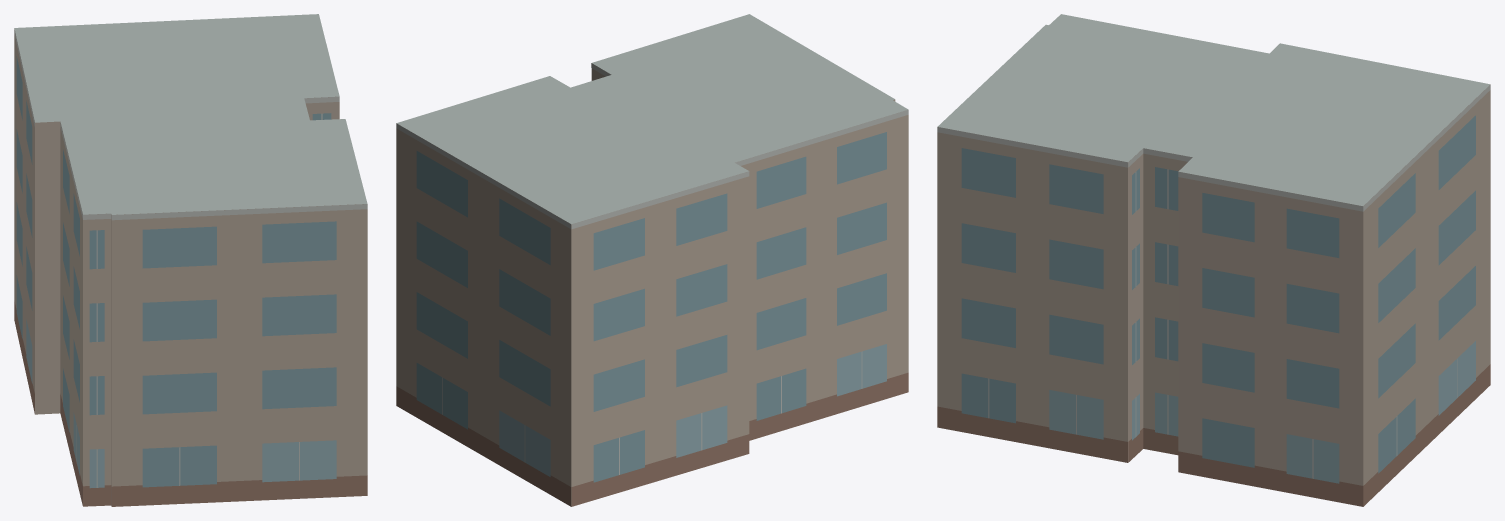
Rendered from survey-upis-32669700.glb.
3 views of the same model, side by side, from view 1: azimuth 30°, elevation 25°; view 2: azimuth 150°, elevation 25°; view 3: azimuth 270°, elevation 25° (orthographic). The views are drawn at different scales.
Visible parts, largest first — view 1: survey-upis-32669700.tmp; view 2: survey-upis-32669700.tmp; view 3: survey-upis-32669700.tmp.
Boxes of the visible parts, x1,y1,x2,y2 form: survey-upis-32669700.tmp: (14,14,367,506); survey-upis-32669700.tmp: (396,14,908,506); survey-upis-32669700.tmp: (937,14,1490,506).
Bounding box in the file's own units: 18.52 × 13.5 × 22.52.
